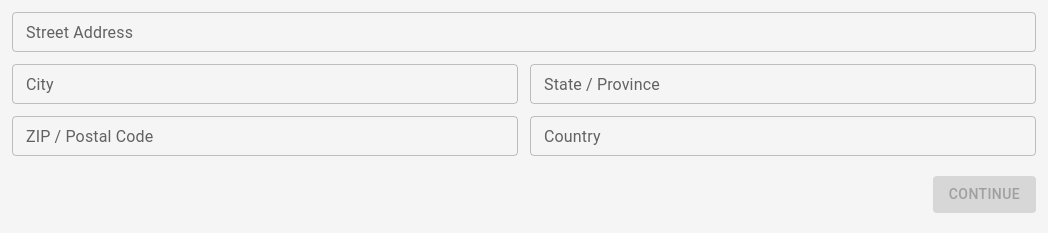
AddressSection › enables continue when all fields are valid
Type "123 Main Street" into the field labelled "Street Address". click: (524, 32)
box: [12, 12, 1036, 52]
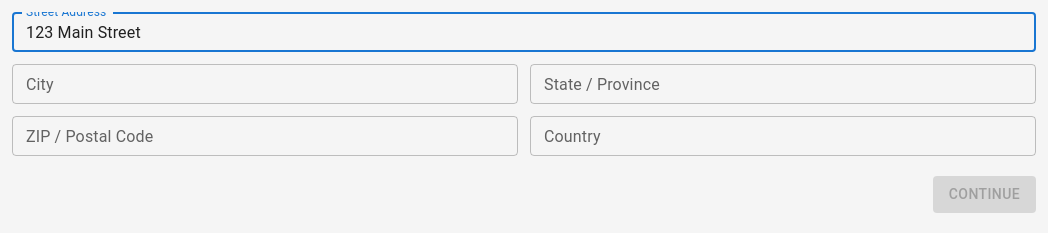
Type "New York" into the field labelled "City". click: (265, 84)
box: [12, 64, 518, 104]
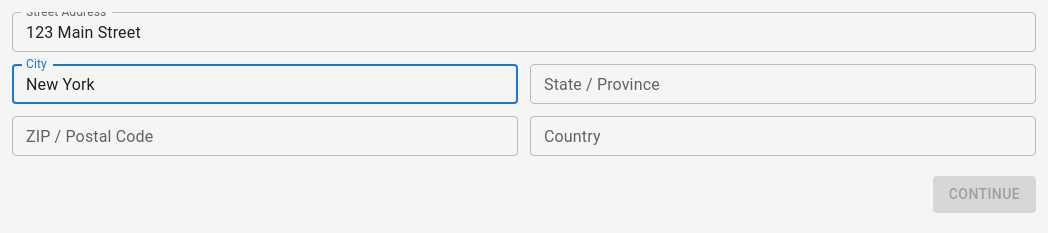
Type "NY" into the field labelled "State / Province". click: (783, 84)
box: [530, 64, 1036, 104]
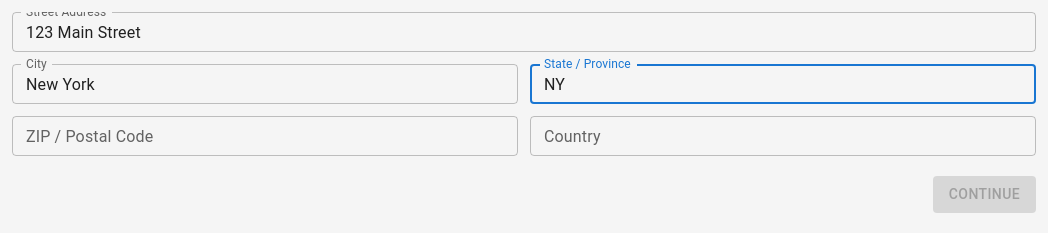
Type "10001" into the field labelled "ZIP / Postal Code". click: (265, 136)
box: [12, 116, 518, 156]
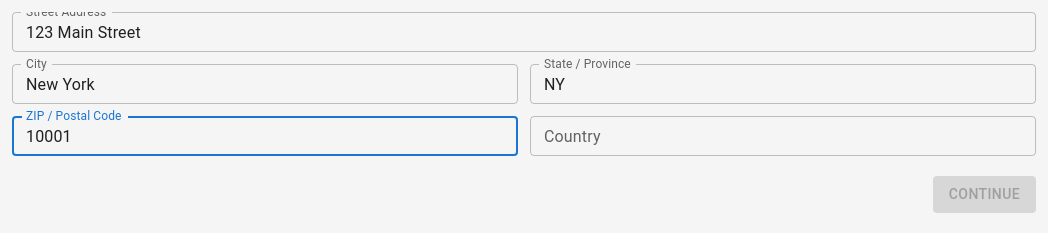
Type "USA" into the field labelled "Country". click: (783, 136)
box: [530, 116, 1036, 156]
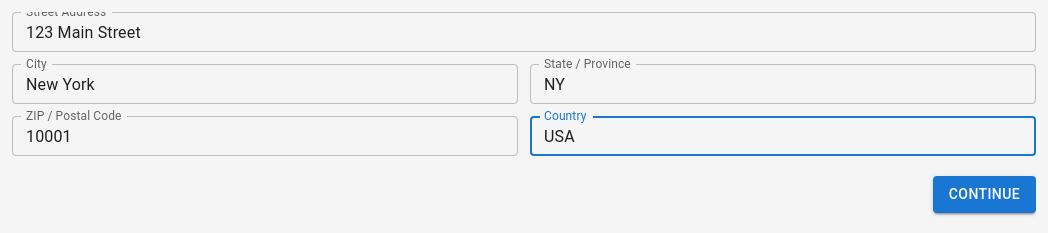
Result: the button "Continue" is enabled at [933, 176, 1036, 212]
